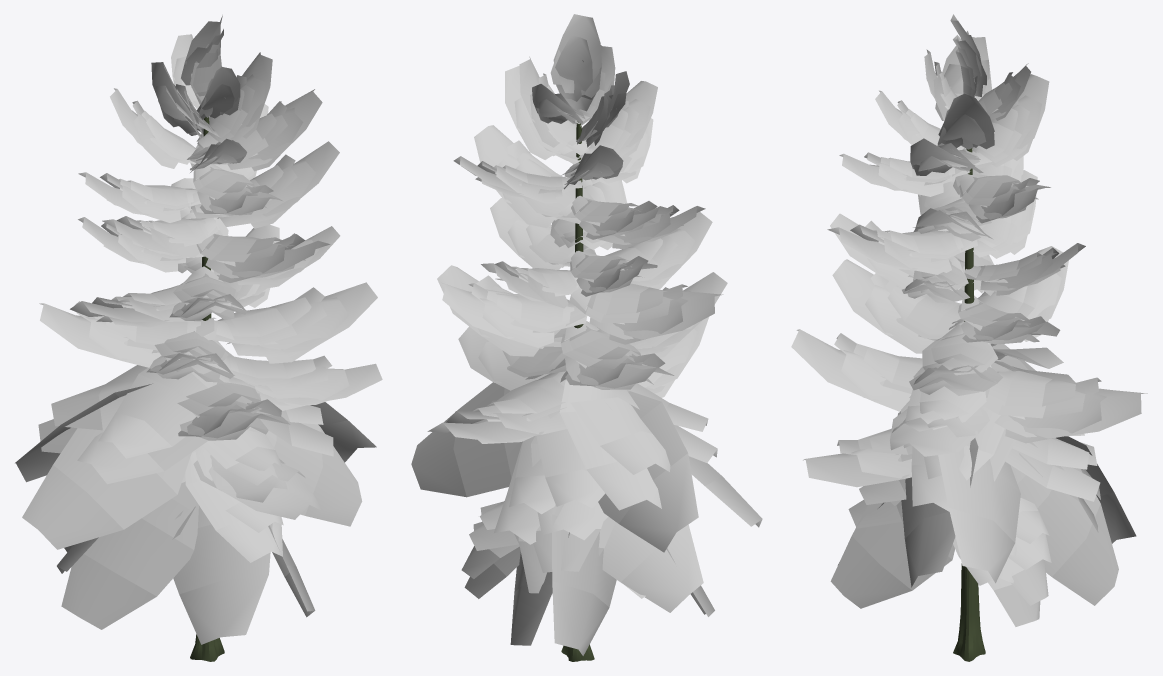
The model's file is Fir_Gr+Ân.S.B.Z1.fbx.
3 renders of one model, left to right at view 1: azimuth 30°, elevation 25°; view 2: azimuth 150°, elevation 25°; view 3: azimuth 270°, elevation 25°, orthographic.
Visible parts, largest first — view 1: Fir_Grön_S_B_Z1; view 2: Fir_Grön_S_B_Z1; view 3: Fir_Grön_S_B_Z1.
Part boxes in pixels (left/top/right/bottom): Fir_Grön_S_B_Z1: left=15, top=15, right=382, bottom=661; Fir_Grön_S_B_Z1: left=411, top=14, right=762, bottom=661; Fir_Grön_S_B_Z1: left=791, top=14, right=1147, bottom=661.
Bounding box in the file's own units: 449 × 796 × 404.
